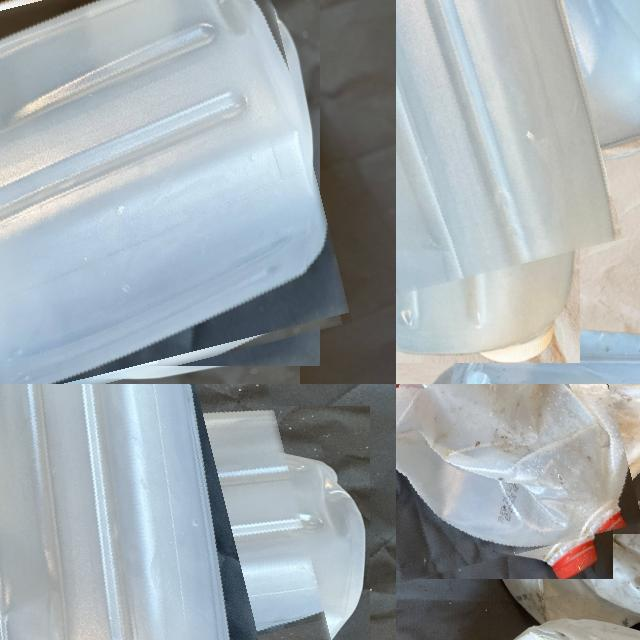milk-jug: (0, 0, 331, 384), (0, 384, 321, 640), (396, 0, 640, 303), (396, 384, 640, 570), (562, 384, 640, 617), (424, 322, 640, 384)
